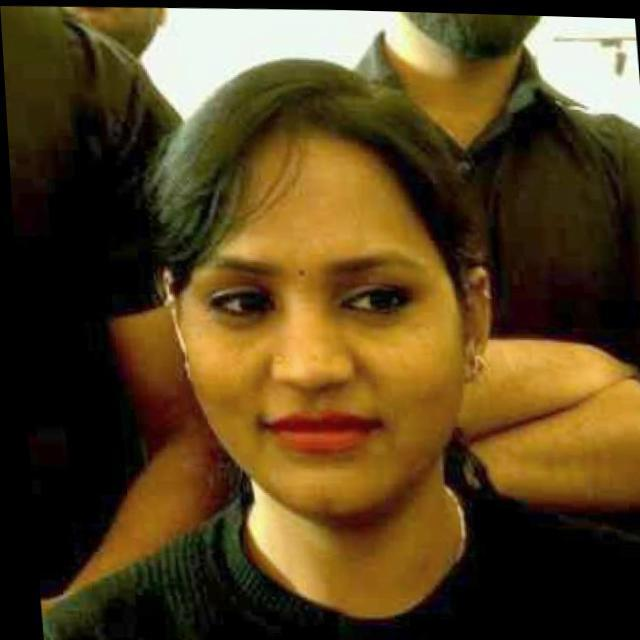puffy_eyes: (205, 305, 265, 330)
